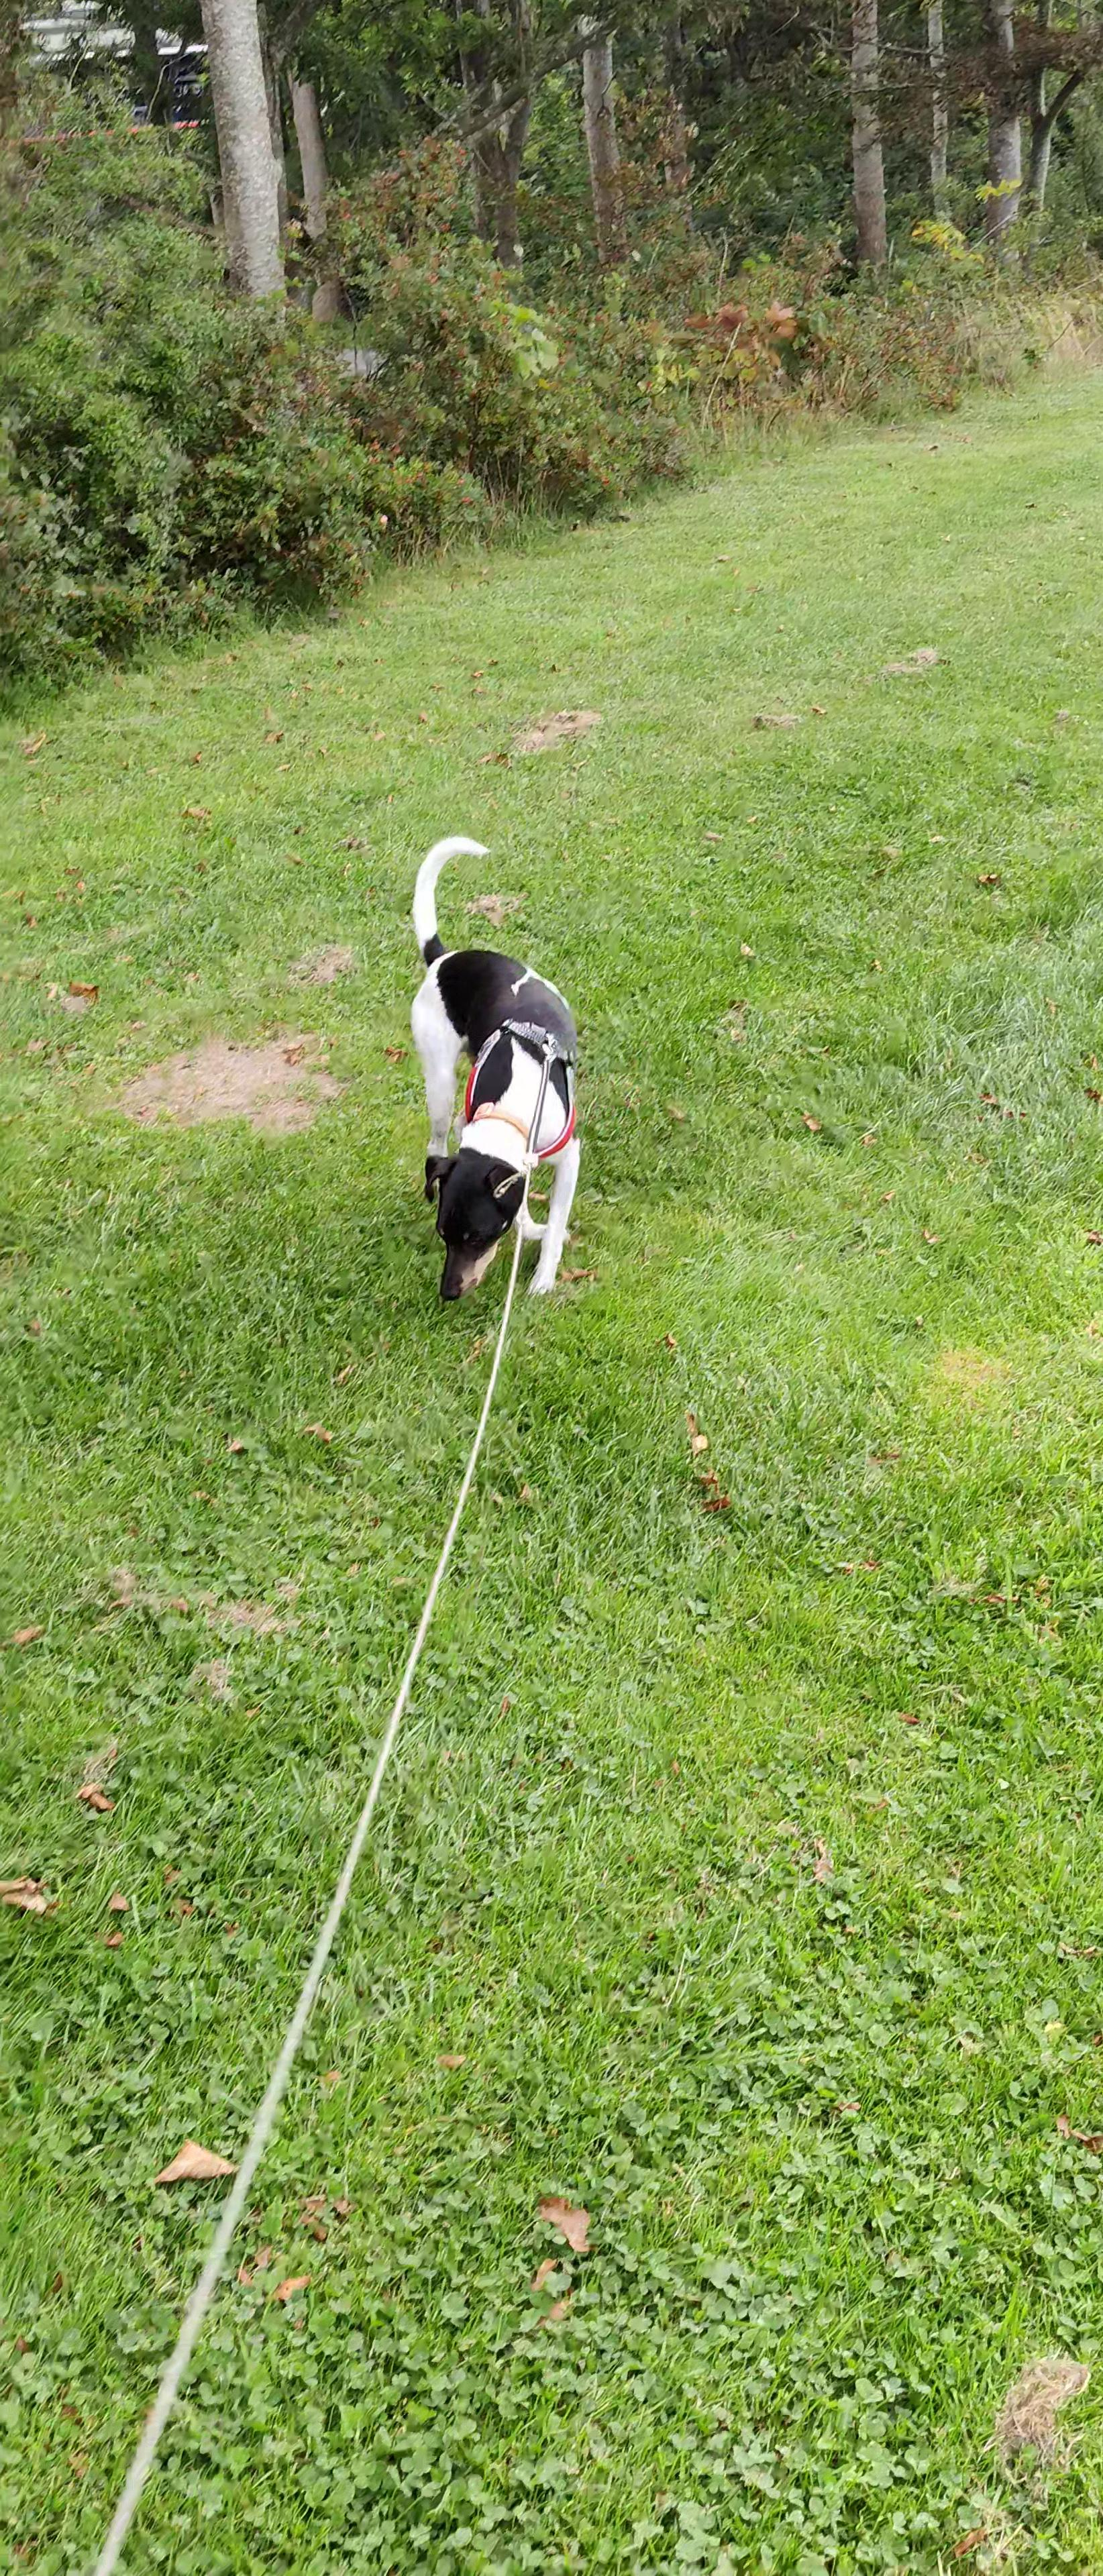Dog: (375, 823, 611, 1318)
